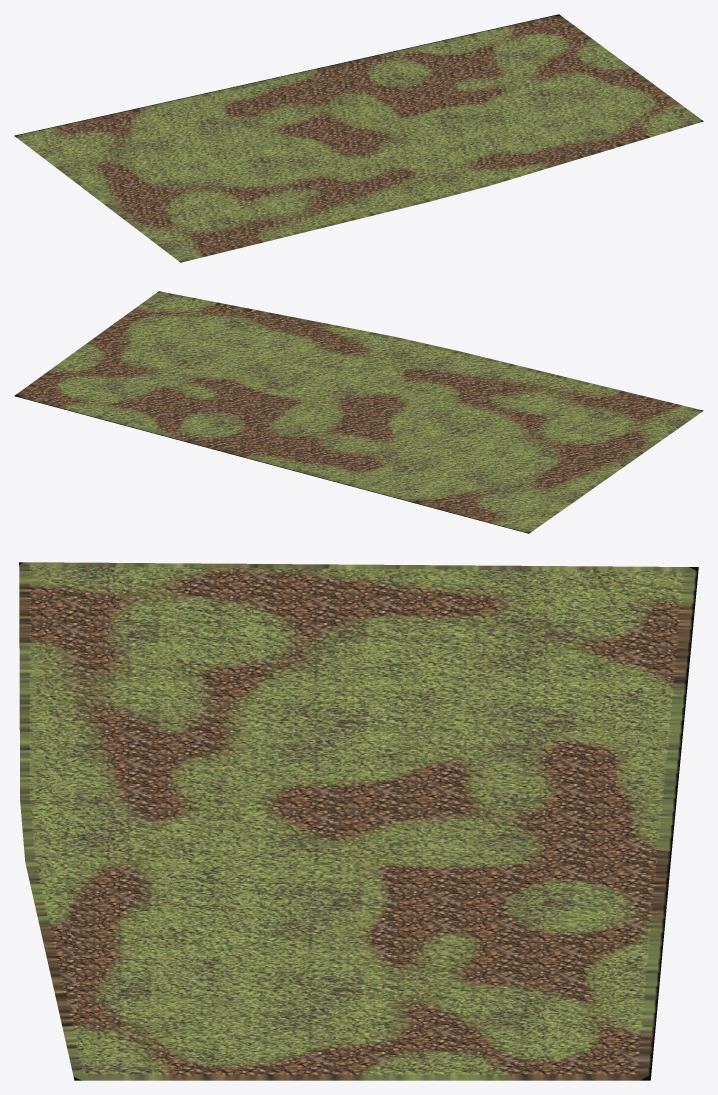
The model's file is ground4.glb.
3 views of the same model, one above another, from view 1: azimuth 30°, elevation 25°; view 2: azimuth 150°, elevation 25°; view 3: azimuth 270°, elevation 25° (orthographic). The views are drawn at different scales.
Visible parts, largest first — view 1: Plane.001; view 2: Plane.001; view 3: Plane.001.
Part boxes in pixels (x1,y1,x2,y2): Plane.001: (14,14,703,262); Plane.001: (14,291,703,533); Plane.001: (19,562,698,1080).
Size of the model in its own units: 122 by 0.0745 by 67.52.
1 material, 1 textured.
